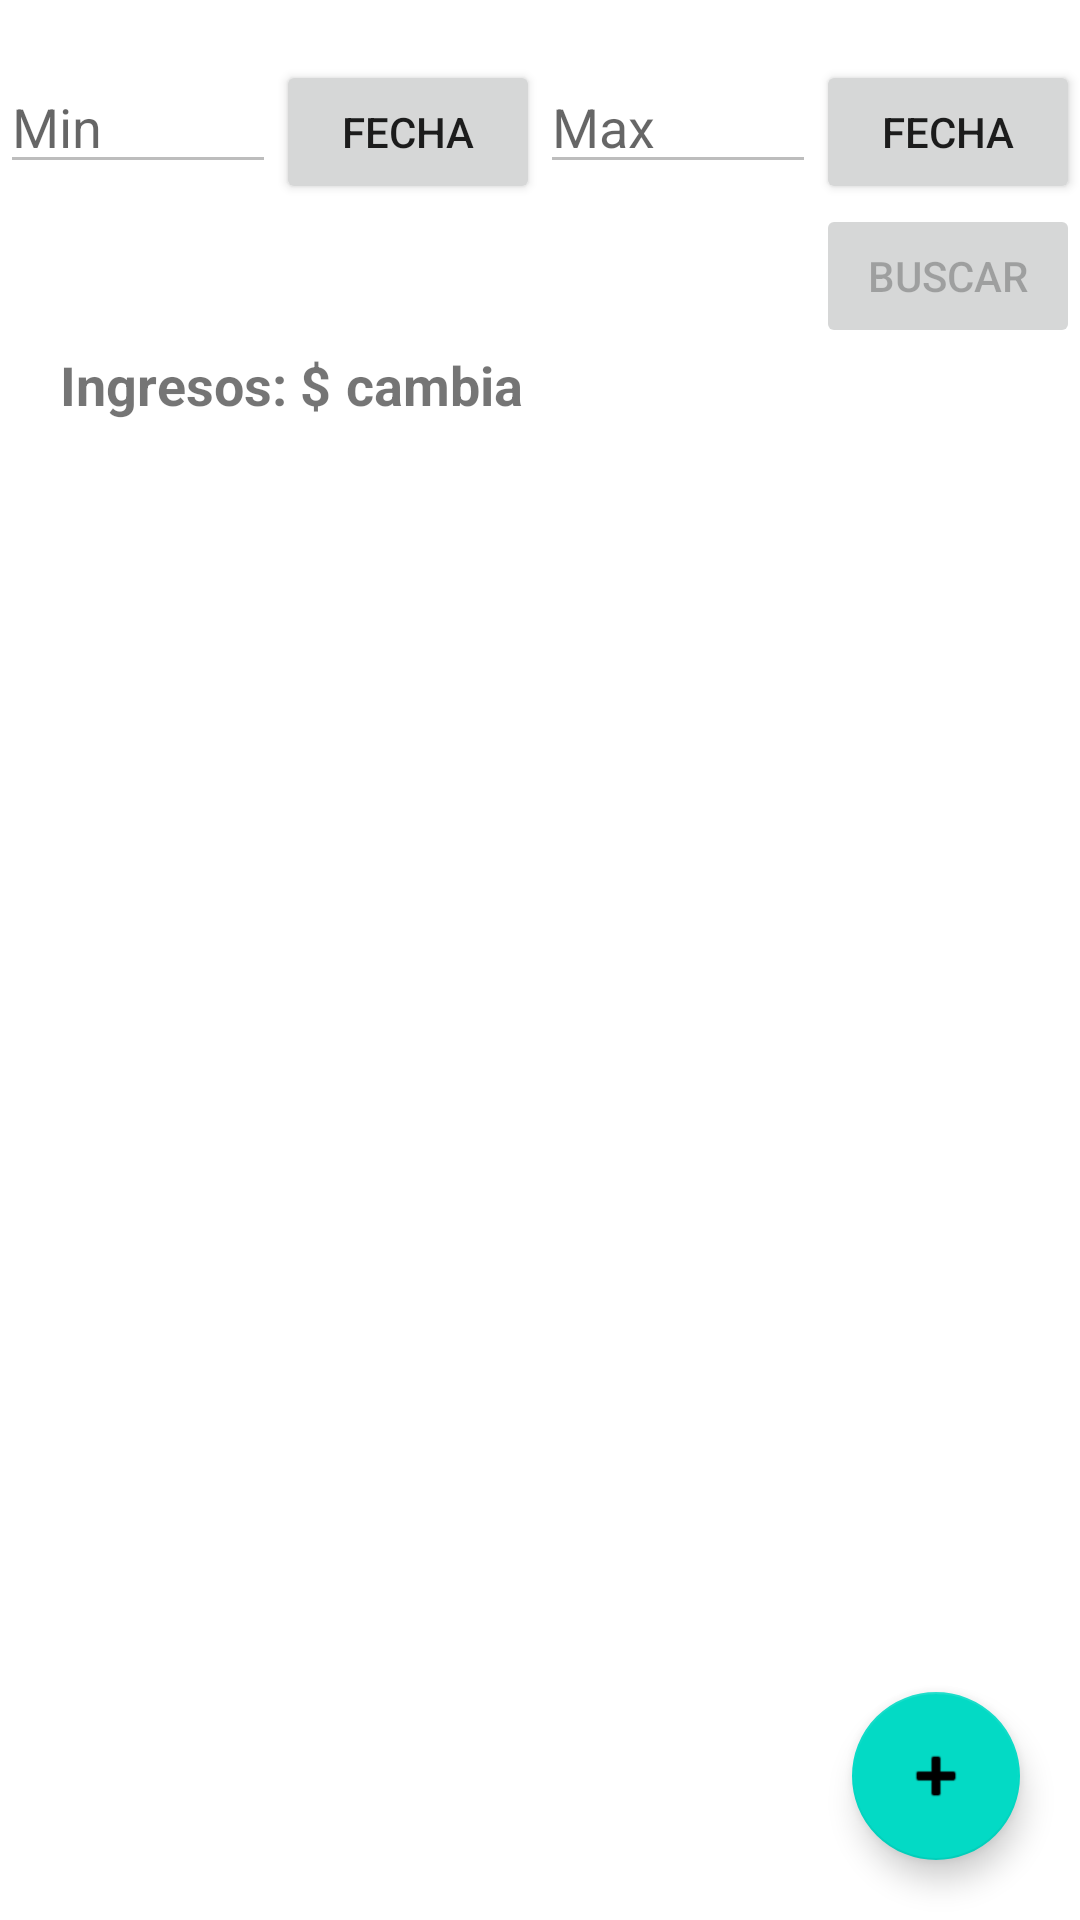

Named icons in this screenshot (1080px x 1920px) and their bounding boxes, [x1=x1, y1=y1, x2=x2, y2=y2]:
boton flotante agregar cita: [x1=852, y1=1692, x2=1020, y2=1860]
